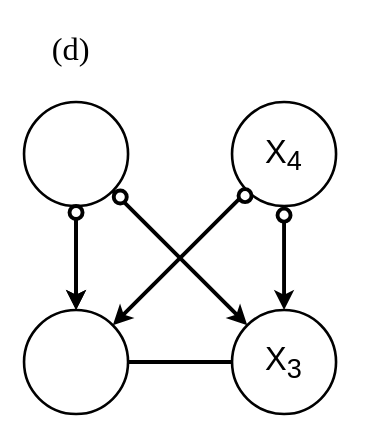
Some shapes in this 371 by 447 pixel diagram are drawn without their labels. The shapes that lost their labels are listed below. From the top down, each one's box as (x1, y1, x2, y2) in pixels, then its label:
(22, 100, 129, 207): X 1
(22, 308, 129, 415): X 2
